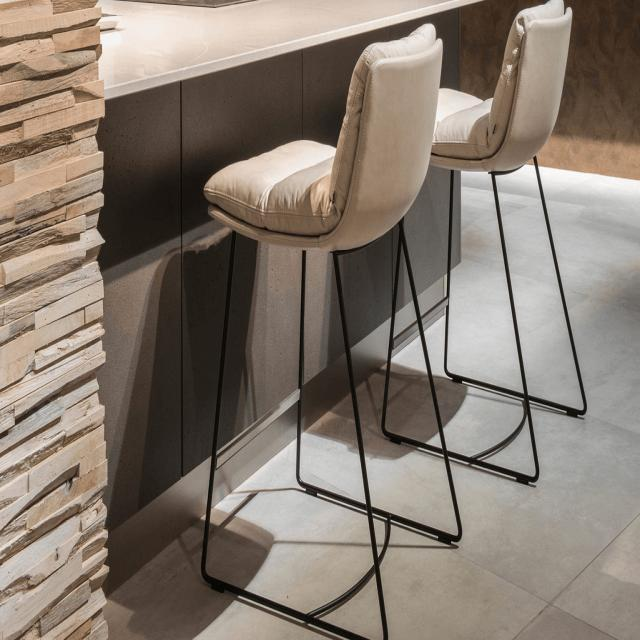chair: (197, 16, 464, 640), (379, 0, 591, 490), (426, 0, 596, 182)
